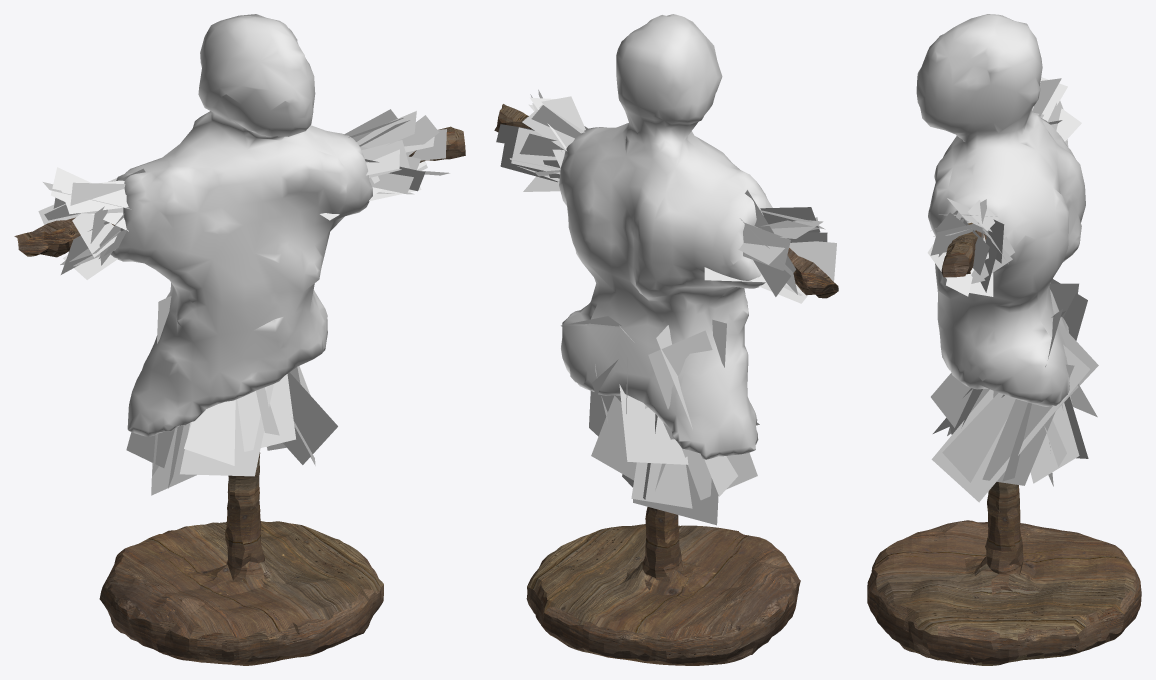
The model's file is Target Dummy.fbx.
The picture shows the model from 3 angles, left to right: view 1: azimuth 30°, elevation 25°; view 2: azimuth 150°, elevation 25°; view 3: azimuth 270°, elevation 25°; orthographic projection. The views are drawn at different scales.
Visible parts, largest first — view 1: Training Dummy; view 2: Training Dummy; view 3: Training Dummy.
Part boxes in pixels (x1=…): Training Dummy: x1=14, y1=14, x2=465, y2=665; Training Dummy: x1=494, y1=14, x2=838, y2=665; Training Dummy: x1=867, y1=14, x2=1141, y2=665.
Bounding box in the file's own units: 131 × 79.07 × 195.
